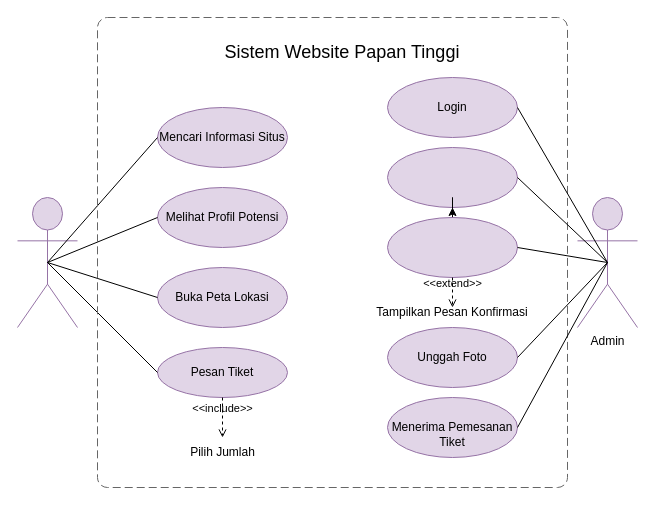
Some shapes in this 655 by 505 pixel diagram are drawn without their labels. Each missing label, with the centre of its shape:
"Hapus Menu" belongs at (452,247).
"Kelola Produk" belongs at (452,177).
"Wisatawan" belongs at (47,262).
